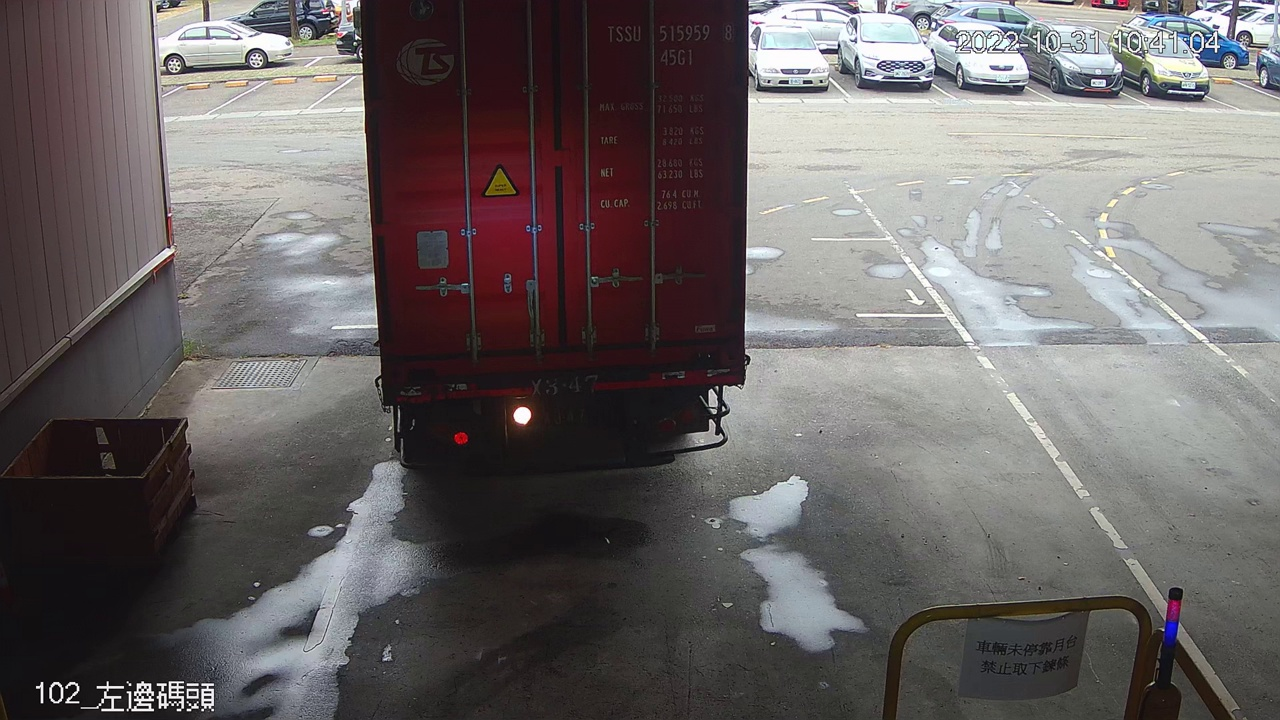container: (601, 16, 739, 72)
